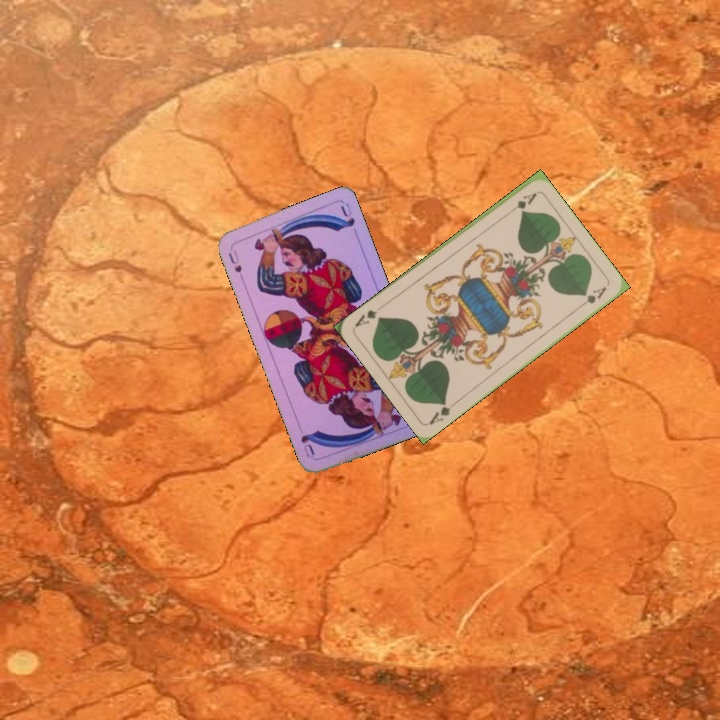GA: (425, 397, 460, 427), (503, 189, 540, 217)
SU: (224, 246, 246, 283)
